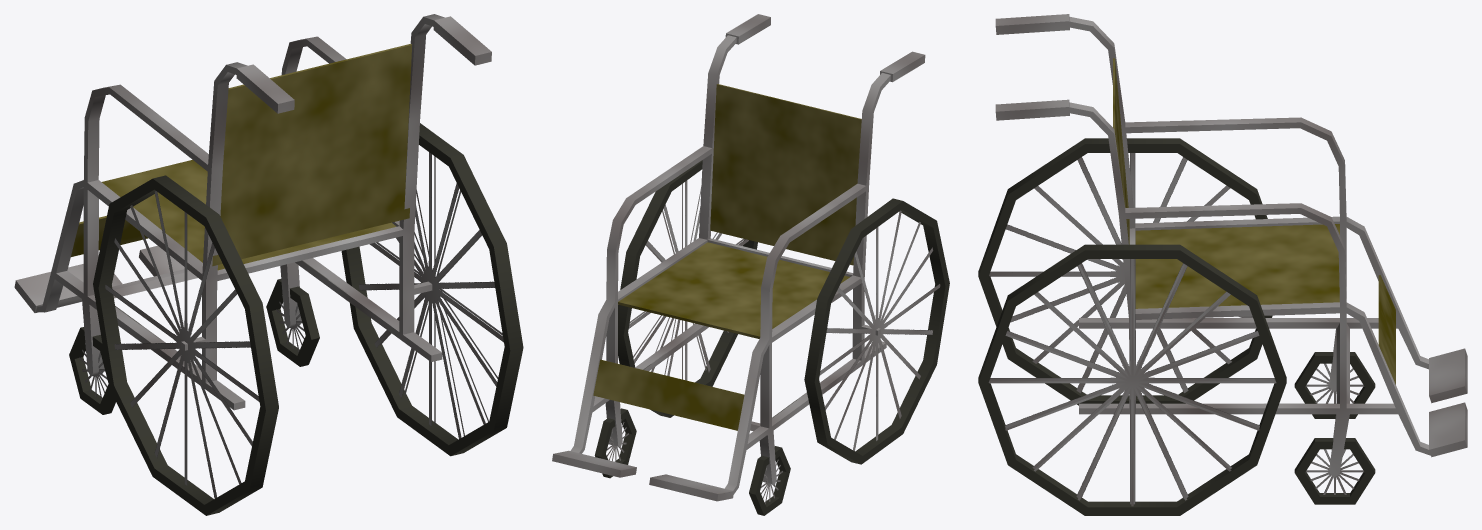
The model's file is wheelchair.fbx.
3 renders of one model, left to right at view 1: azimuth 30°, elevation 25°; view 2: azimuth 150°, elevation 25°; view 3: azimuth 270°, elevation 25°, orthographic. The views are drawn at different scales.
Visible parts, largest first — view 1: leather, frame, Circle.001, Circle.002, Circle, Plane, Circle.003; view 2: leather, frame, Circle.001, Circle.002, Circle, Plane, Circle.003; view 3: frame, Circle.001, leather, Circle.002, Plane, Circle, Circle.003.
Boxes of the visible parts, <box> form: leather: <box>71,44,411,270</box>; frame: <box>14,14,491,410</box>; Circle.001: <box>93,123,523,515</box>; Circle.002: <box>105,152,503,498</box>; Circle: <box>69,279,319,414</box>; Plane: <box>376,156,502,435</box>; Circle.003: <box>79,295,304,400</box>; leather: <box>593,84,861,430</box>; frame: <box>552,14,925,501</box>; Circle.001: <box>618,160,949,464</box>; Circle.002: <box>628,180,940,451</box>; Circle: <box>594,408,790,515</box>; Plane: <box>629,183,744,379</box>; Circle.003: <box>606,422,782,504</box>; frame: <box>995,14,1467,477</box>; Circle.001: <box>978,138,1286,515</box>; leather: <box>1113,58,1395,384</box>; Circle.002: <box>989,153,1275,504</box>; Plane: <box>988,259,1276,506</box>; Circle: <box>1294,352,1375,504</box>; Circle.003: <box>1305,363,1364,494</box>.
Size of the model in its own units: 1.14 by 1.89 by 2.1.
1 material, 1 textured.
